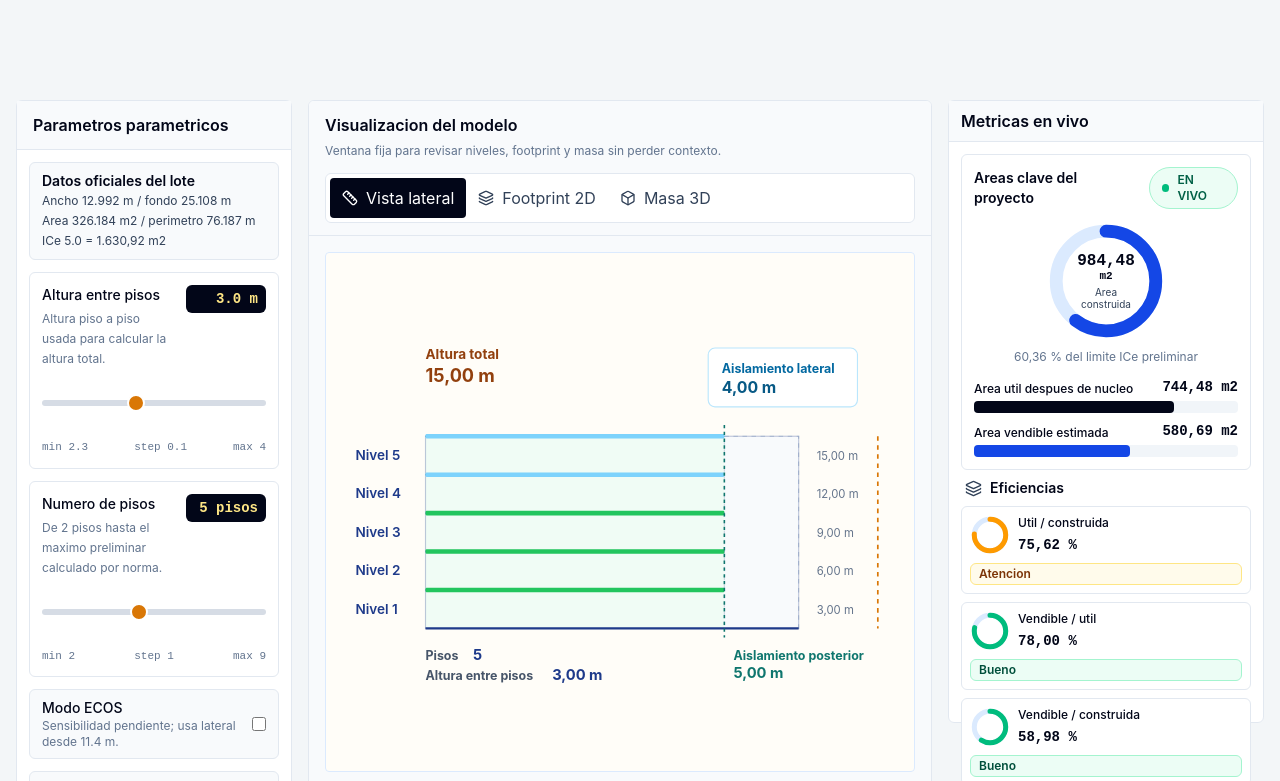
Test: App live calculations UI › uses viewport tabs with annotated side elevation and footprint views
Expected: the picture named "Vista lateral por niveles" is shown, [325, 252, 915, 772]
Click the tab "Footprint 2D".
click(537, 198)  # box [466, 178, 608, 218]
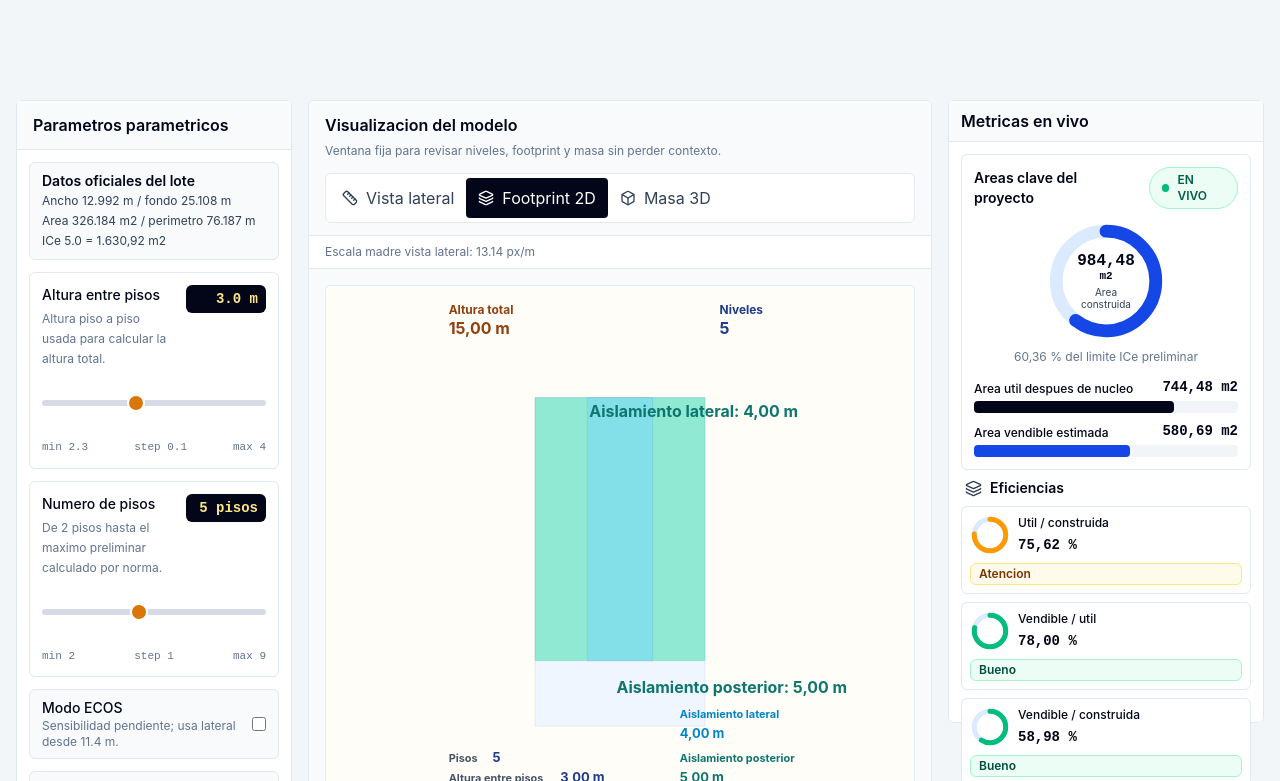
Expected: the text "Aislamiento posterior:" is shown, [617, 678, 847, 698]
Expected: the tab "Footprint 2D" is selected, [466, 178, 608, 218]
Click the tab "Masa 3D".
click(665, 198)  # box [608, 178, 723, 218]
(page scrolled)
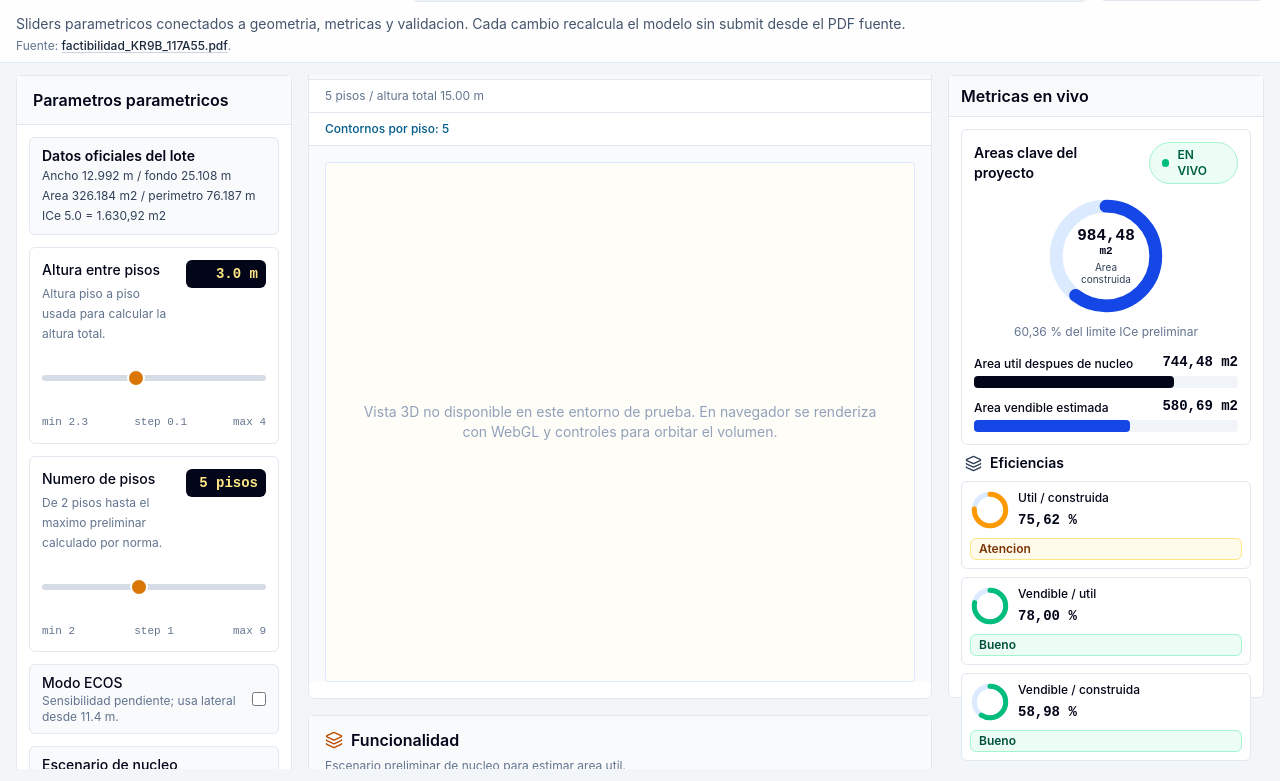
Expected: the text "orbitar" is shown, [364, 403, 876, 440]
Expected: the text with test id "view-floor-contours" reads "Contornos por piso: 5", [309, 113, 931, 146]
